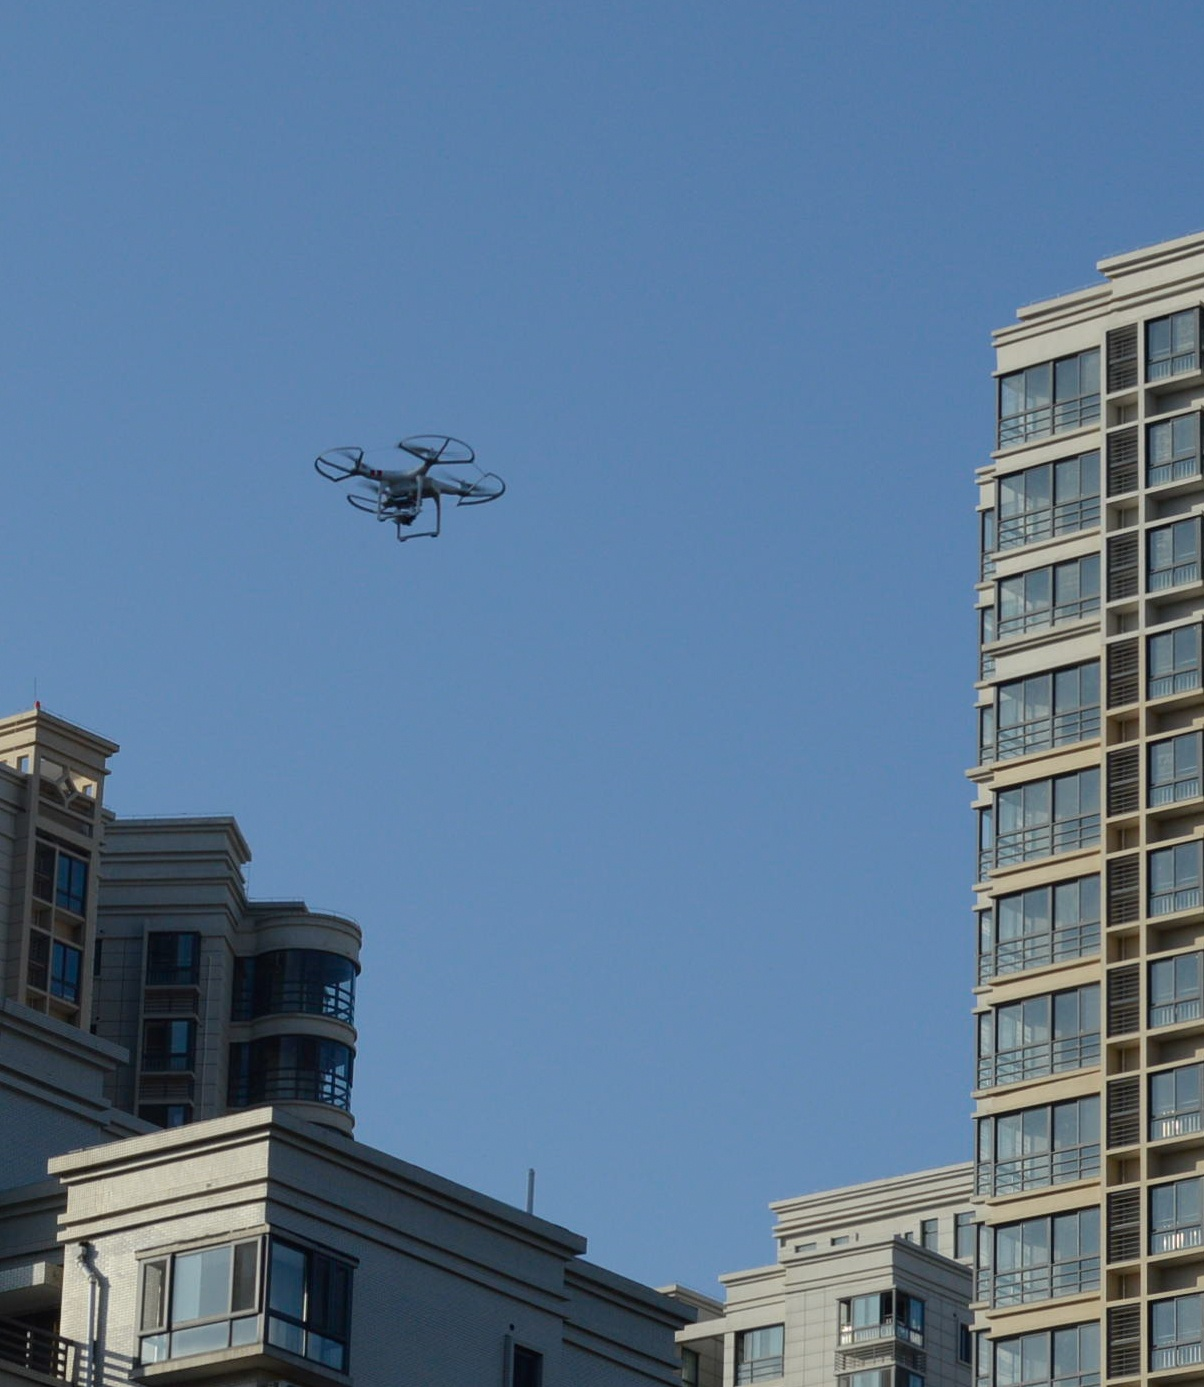DJI: (307, 433, 509, 543)
